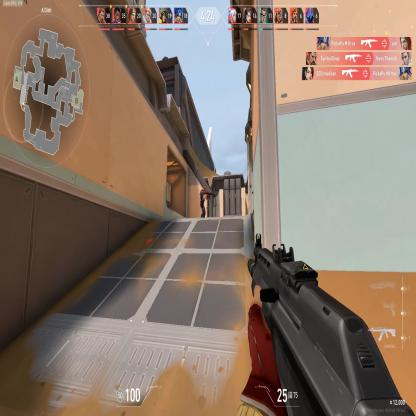enemy: (200, 184, 210, 218)
